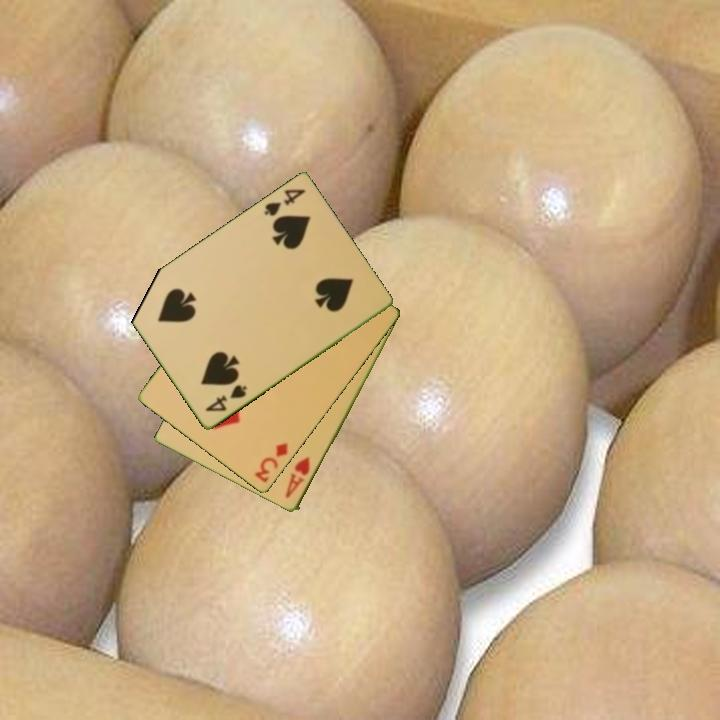3d: (251, 439, 291, 486)
4s: (260, 186, 309, 220), (202, 381, 250, 415)
Ah: (282, 453, 313, 502)
